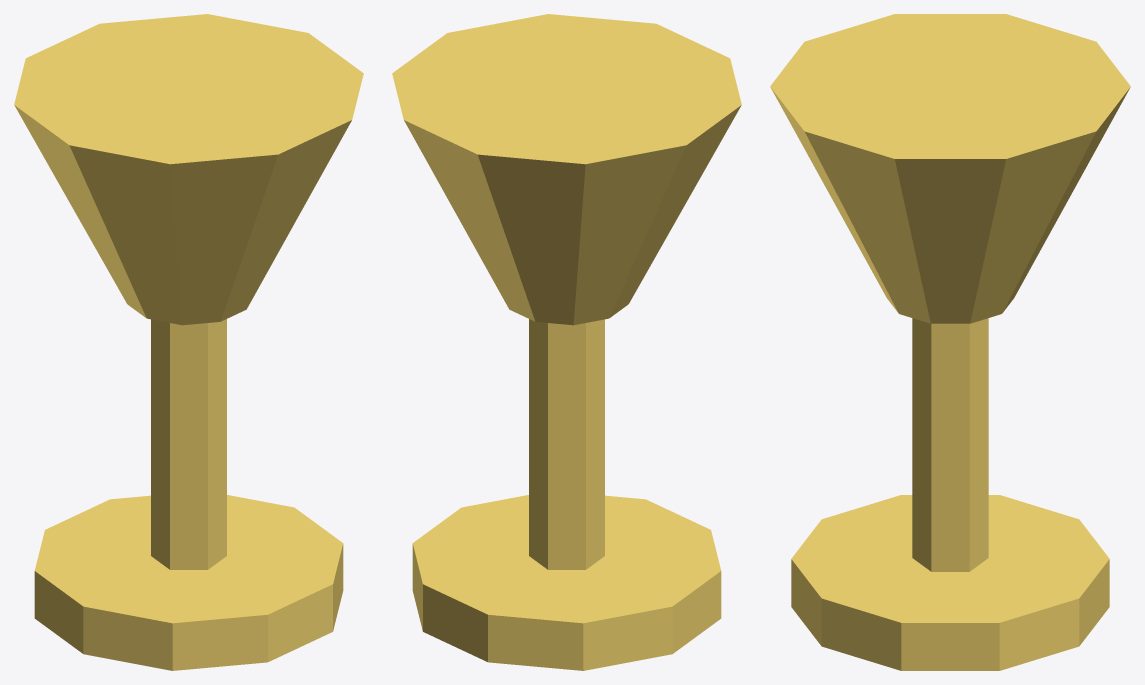
3 views of the same model, side by side, from view 1: azimuth 30°, elevation 25°; view 2: azimuth 150°, elevation 25°; view 3: azimuth 270°, elevation 25° (orthographic).
Parts seen in each view (by area): view 1: Cup, Foot, Stem; view 2: Cup, Foot, Stem; view 3: Cup, Foot, Stem.
Part boxes in pixels (x1,y1,x2,y2): Cup: (14, 14, 363, 325); Foot: (34, 495, 343, 670); Stem: (151, 319, 226, 569); Cup: (392, 14, 741, 325); Foot: (412, 495, 721, 670); Stem: (529, 319, 604, 569); Cup: (770, 14, 1130, 323); Foot: (791, 495, 1109, 670); Stem: (912, 318, 988, 571).
Bounding box in the file's own units: 0.1617 × 0.2705 × 0.17.
Materials: 1 (1 with a texture image).
